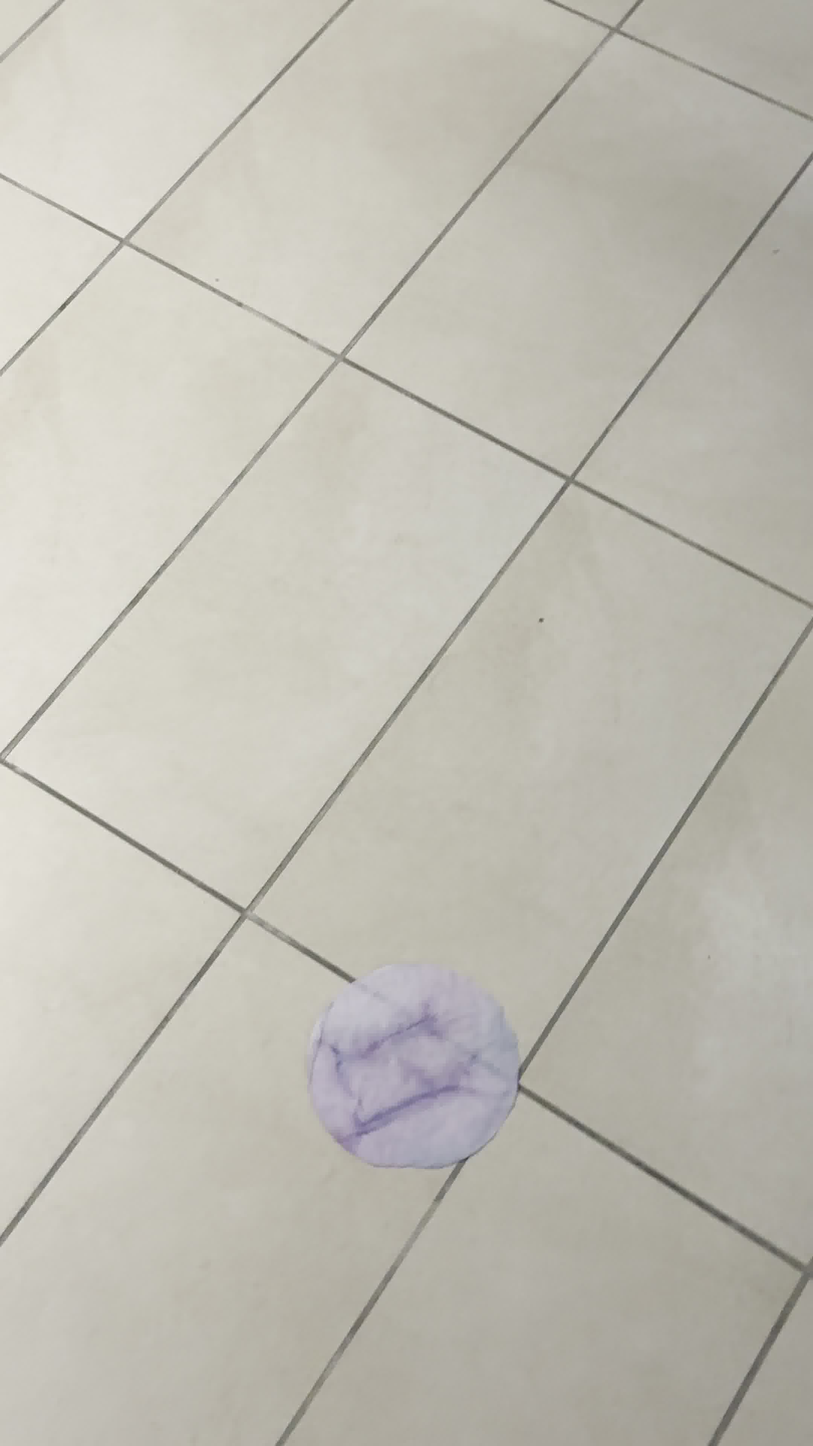Target: (312, 965, 521, 1166)
